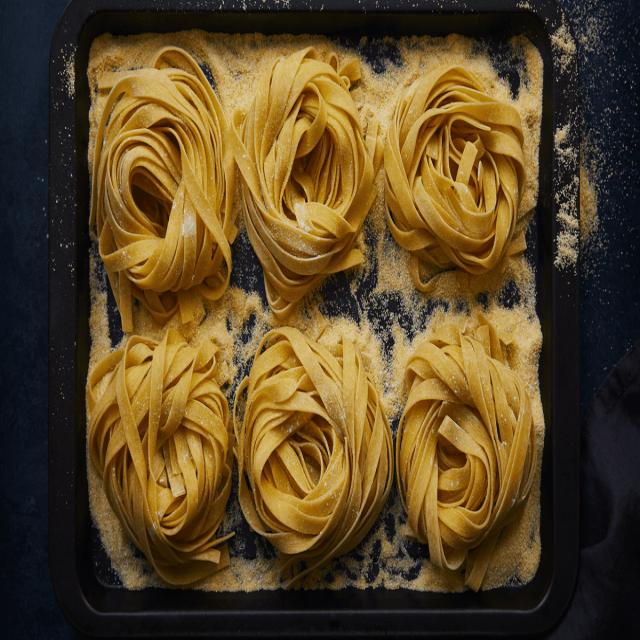pasta: (74, 21, 557, 616)
